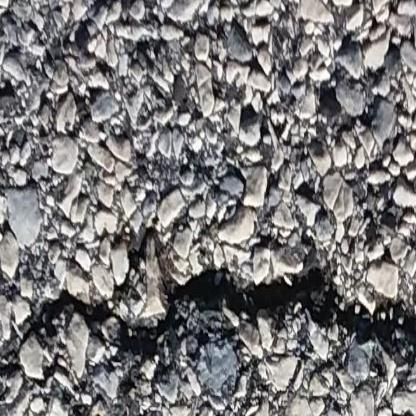Cracks: (0, 257, 416, 381)
